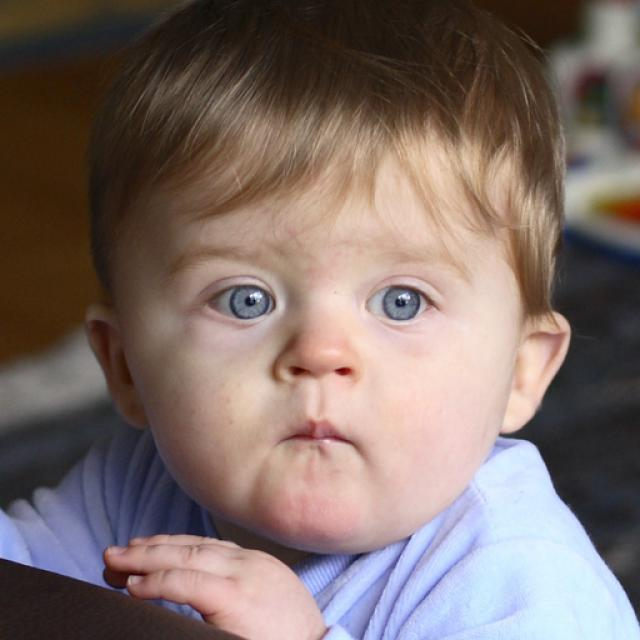sad: (130, 112, 514, 548)
